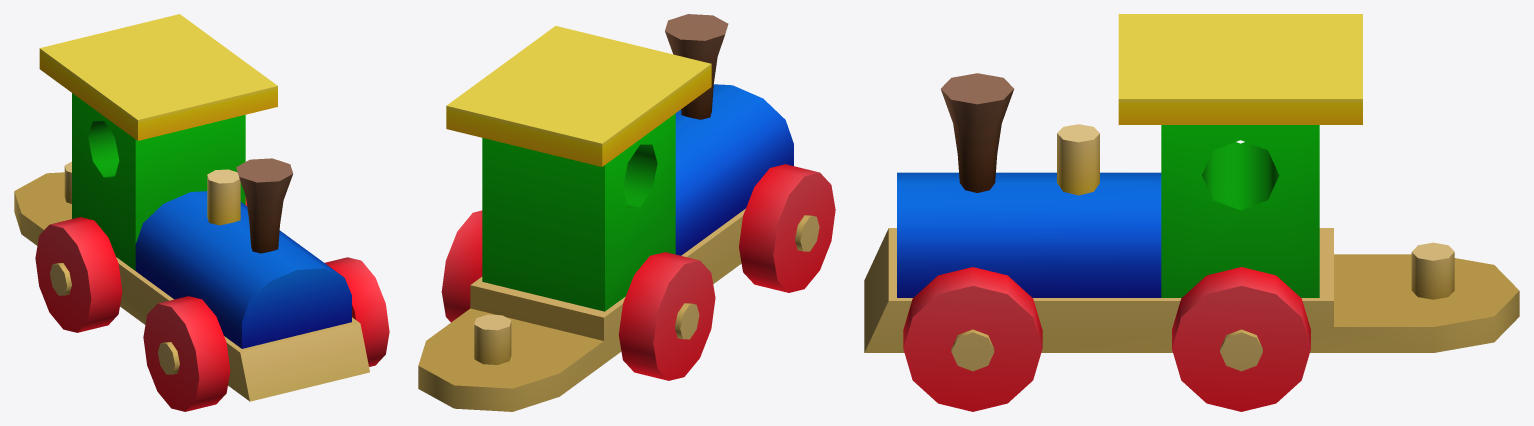
Rendered from stamTrain.fbx.
The picture shows the model from 3 angles, left to right: view 1: azimuth 30°, elevation 25°; view 2: azimuth 150°, elevation 25°; view 3: azimuth 270°, elevation 25°; orthographic projection. The views are drawn at different scales.
Visible parts, largest first — view 1: stamTrain; view 2: stamTrain; view 3: stamTrain.
Part boxes in pixels (x1,y1,x2,y2): stamTrain: (14,14,389,411); stamTrain: (418,14,835,411); stamTrain: (864,14,1519,411).
Size of the model in its own units: 9.79 by 11.2 by 22.34.
